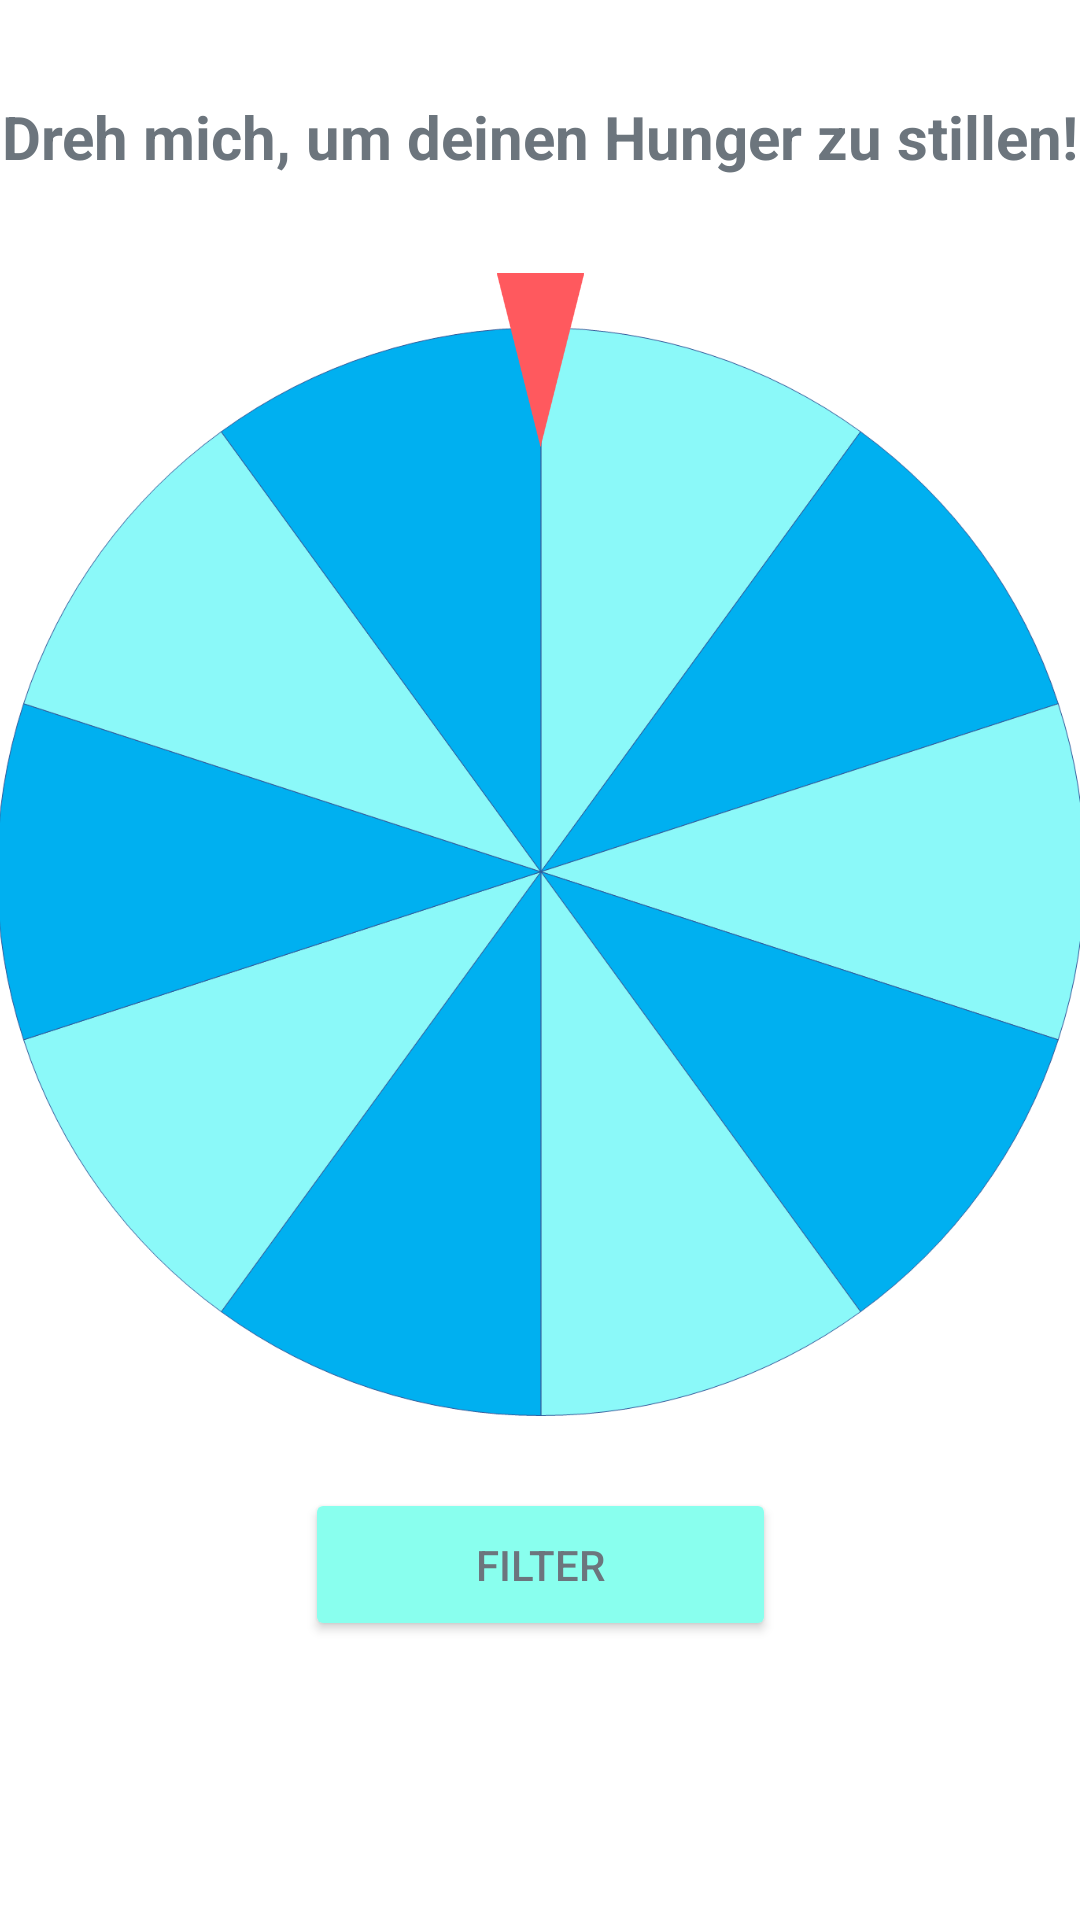

Where to tap for icons on this 1080 × 1920 app screen, as [x,y]:
arrow: [540,360]
